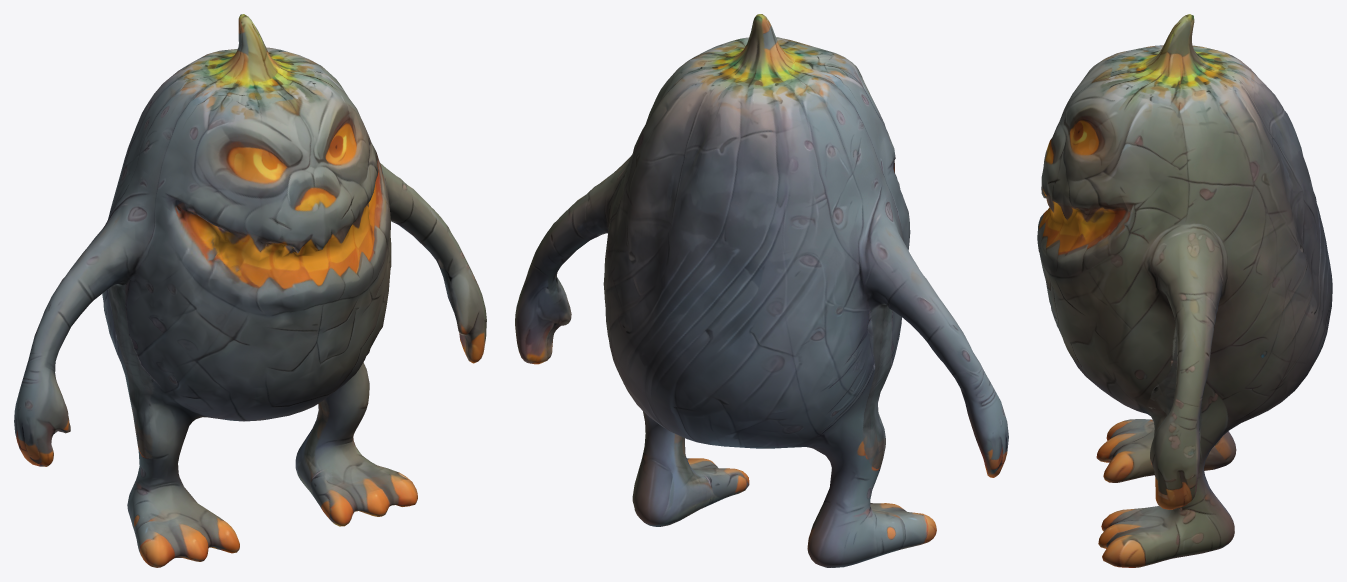
The model's file is pumpkinMonster.fbx.
3 views of the same model, side by side, from view 1: azimuth 30°, elevation 25°; view 2: azimuth 150°, elevation 25°; view 3: azimuth 270°, elevation 25° (orthographic). The views are drawn at different scales.
Parts seen in each view (by area): view 1: Mesh_0; view 2: Mesh_0; view 3: Mesh_0.
Part boxes in pixels (x1,y1,x2,y2): Mesh_0: (14,14,486,567); Mesh_0: (515,14,1008,567); Mesh_0: (1037,14,1332,567).
Bounding box in the file's own units: 116 × 120 × 64.95.
1 material, 1 textured.
